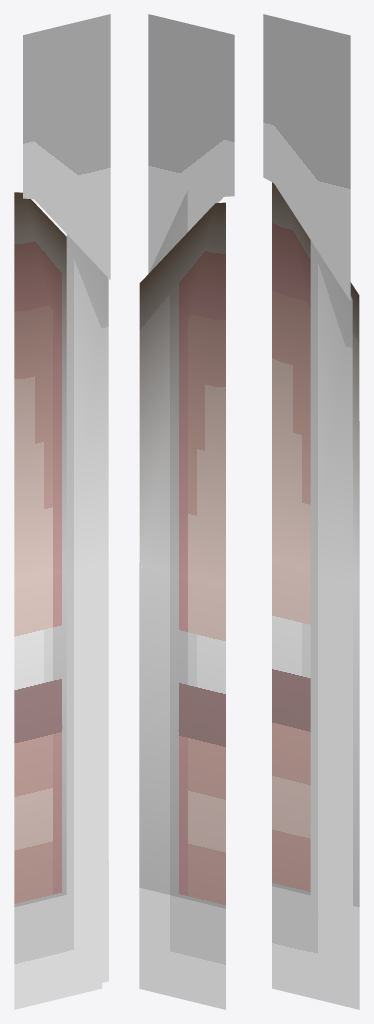
3 renders of one model, left to right at view 1: azimuth 30°, elevation 25°; view 2: azimuth 150°, elevation 25°; view 3: azimuth 330°, elevation 25°, orthographic.
Size of the model in its own units: 0.4736 by 5.06 by 0.082.
1 material, 1 textured.
